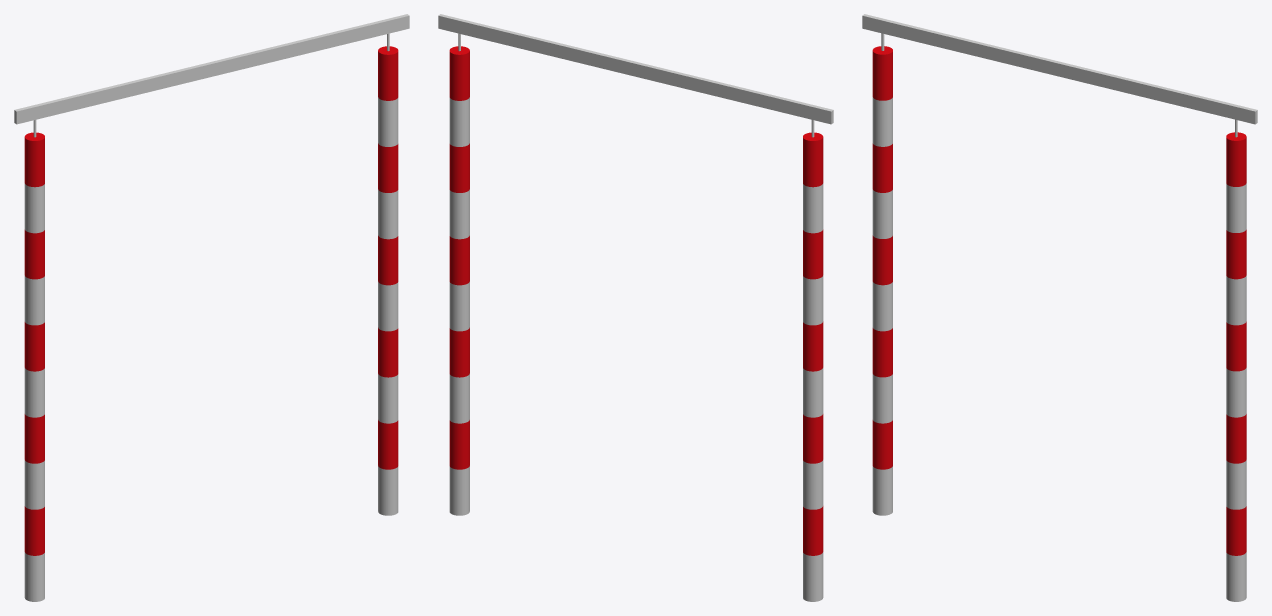
File: watersticks.fbx
3 renders of one model, left to right at view 1: azimuth 30°, elevation 25°; view 2: azimuth 150°, elevation 25°; view 3: azimuth 330°, elevation 25°, orthographic.
Parts seen in each view (by area): view 1: Cylinder; view 2: Cylinder; view 3: Cylinder.
Boxes of the visible parts, left/top/right/bottom form: Cylinder: left=14, top=14, right=409, bottom=601; Cylinder: left=438, top=14, right=833, bottom=601; Cylinder: left=862, top=14, right=1257, bottom=601.
Bounding box in the file's own units: 446 × 533 × 19.98.
